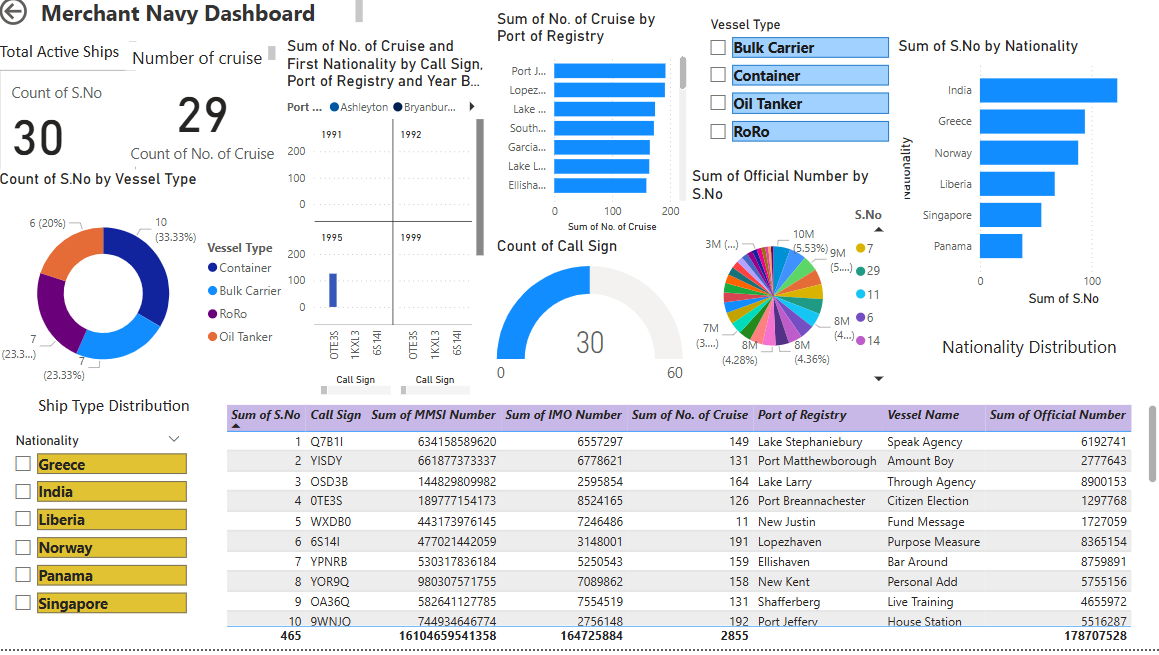

The dashboard page shown, as its layout file describes it:
{"tool":"powerbi","page":{"name":"Page 1","canvas":[1280,720],"ordinal":0},"visuals":[{"type":"textbox","box":[45.3,0,363.6,39.8],"z":1},{"type":"cardVisual","fields":{"Data":["CountNonNull(Sheet1.S.No)"]},"box":[0,79.6,160.5,124.9],"z":2},{"type":"textbox","box":[0,48,160.5,31.6],"z":3},{"type":"donutChart","fields":{"Category":["Sheet1.Vessel Type"],"Y":["CountNonNull(Sheet1.S.No)"]},"box":[0,193.5,328,253.9],"z":4},{"type":"textbox","box":[42.5,436.4,205.8,41.2],"z":5},{"type":"clusteredBarChart","fields":{"Category":["Sheet1.Nationality"],"Y":["Sum(Sheet1.S.No)"]},"box":[986.6,48,293.7,300.5],"z":6},{"type":"textbox","box":[1034.7,370.5,225,65.9],"z":7},{"type":"textbox","box":[1053.9,673.8,140,46.7],"z":9},{"type":"actionButton","box":[0,0,100,40],"z":11},{"type":"slicer","fields":{"Values":["Sheet1.Nationality"]},"box":[9.6,477.5,205.8,219.6],"z":12},{"type":"slicer","fields":{"Values":["Sheet1.Vessel Type"]},"box":[772.6,20.6,214.1,157.8],"z":13},{"type":"tableEx","fields":{"Values":["Sum(Sheet1.S.No)","Sheet1.Call Sign","Sum(Sheet1.MMSI Number)","Sum(Sheet1.IMO Number)","Sum(Sheet1.No. of Cruise)","Sheet1.Port of Registry","Sheet1.Vessel Name","Sum(Sheet1.Official Number)"]},"box":[248.4,447.3,1031.9,273.1],"z":14},{"type":"clusteredBarChart","fields":{"Category":["Sheet1.Port of Registry"],"Y":["Sum(Sheet1.No. of Cruise)"]},"box":[546.1,17.8,218.2,249.7],"z":15},{"type":"pieChart","fields":{"Category":["Sheet1.S.No"],"Y":["Sum(Sheet1.Official Number)"]},"box":[760.2,190.7,238.8,245.6],"z":16},{"type":"ribbonChart","fields":{"Category":["Sheet1.Call Sign"],"Y":["Sum(Sheet1.No. of Cruise)"],"Series":["Sheet1.Port of Registry"],"Rows":["Sheet1.Year Built"]},"box":[315.6,48,226.4,399.3],"z":17},{"type":"card","fields":{"Values":["Count(Sheet1.No. of Cruise)"]},"box":[142.7,85.1,170.2,105.7],"z":18},{"type":"textbox","box":[145.5,53.5,167.4,31.6],"z":19},{"type":"gauge","fields":{"Y":["CountNonNull(Sheet1.Call Sign)"]},"box":[546,268,214,179],"z":20}]}

Visuals, with their boxes in screenshot pixels (x1, y1, x2, y2), scaled from the page's 1280x720 canvas onto the 1159x655 screenshot:
textbox: left=41, top=0, right=370, bottom=36
cardVisual - CountNonNull(Sheet1.S.No): left=0, top=72, right=145, bottom=186
textbox: left=0, top=44, right=145, bottom=72
donutChart - Sheet1.Vessel Type x CountNonNull(Sheet1.S.No): left=0, top=176, right=297, bottom=407
textbox: left=38, top=397, right=225, bottom=434
clusteredBarChart - Sheet1.Nationality x Sum(Sheet1.S.No): left=893, top=44, right=1158, bottom=317
textbox: left=937, top=337, right=1141, bottom=397
textbox: left=954, top=613, right=1081, bottom=654
actionButton: left=0, top=0, right=91, bottom=36
slicer - Sheet1.Nationality: left=9, top=434, right=195, bottom=634
slicer - Sheet1.Vessel Type: left=700, top=19, right=893, bottom=162
tableEx - Sum(Sheet1.S.No) x Sheet1.Call Sign: left=225, top=407, right=1158, bottom=654
clusteredBarChart - Sheet1.Port of Registry x Sum(Sheet1.No. of Cruise): left=494, top=16, right=692, bottom=243
pieChart - Sheet1.S.No x Sum(Sheet1.Official Number): left=688, top=173, right=905, bottom=397
ribbonChart - Sheet1.Call Sign x Sum(Sheet1.No. of Cruise): left=286, top=44, right=491, bottom=407
card - Count(Sheet1.No. of Cruise): left=129, top=77, right=283, bottom=174
textbox: left=132, top=49, right=283, bottom=77
gauge - CountNonNull(Sheet1.Call Sign): left=494, top=244, right=688, bottom=407
